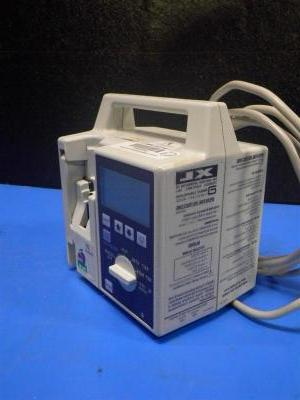plumxl1: (59, 92, 266, 337)
